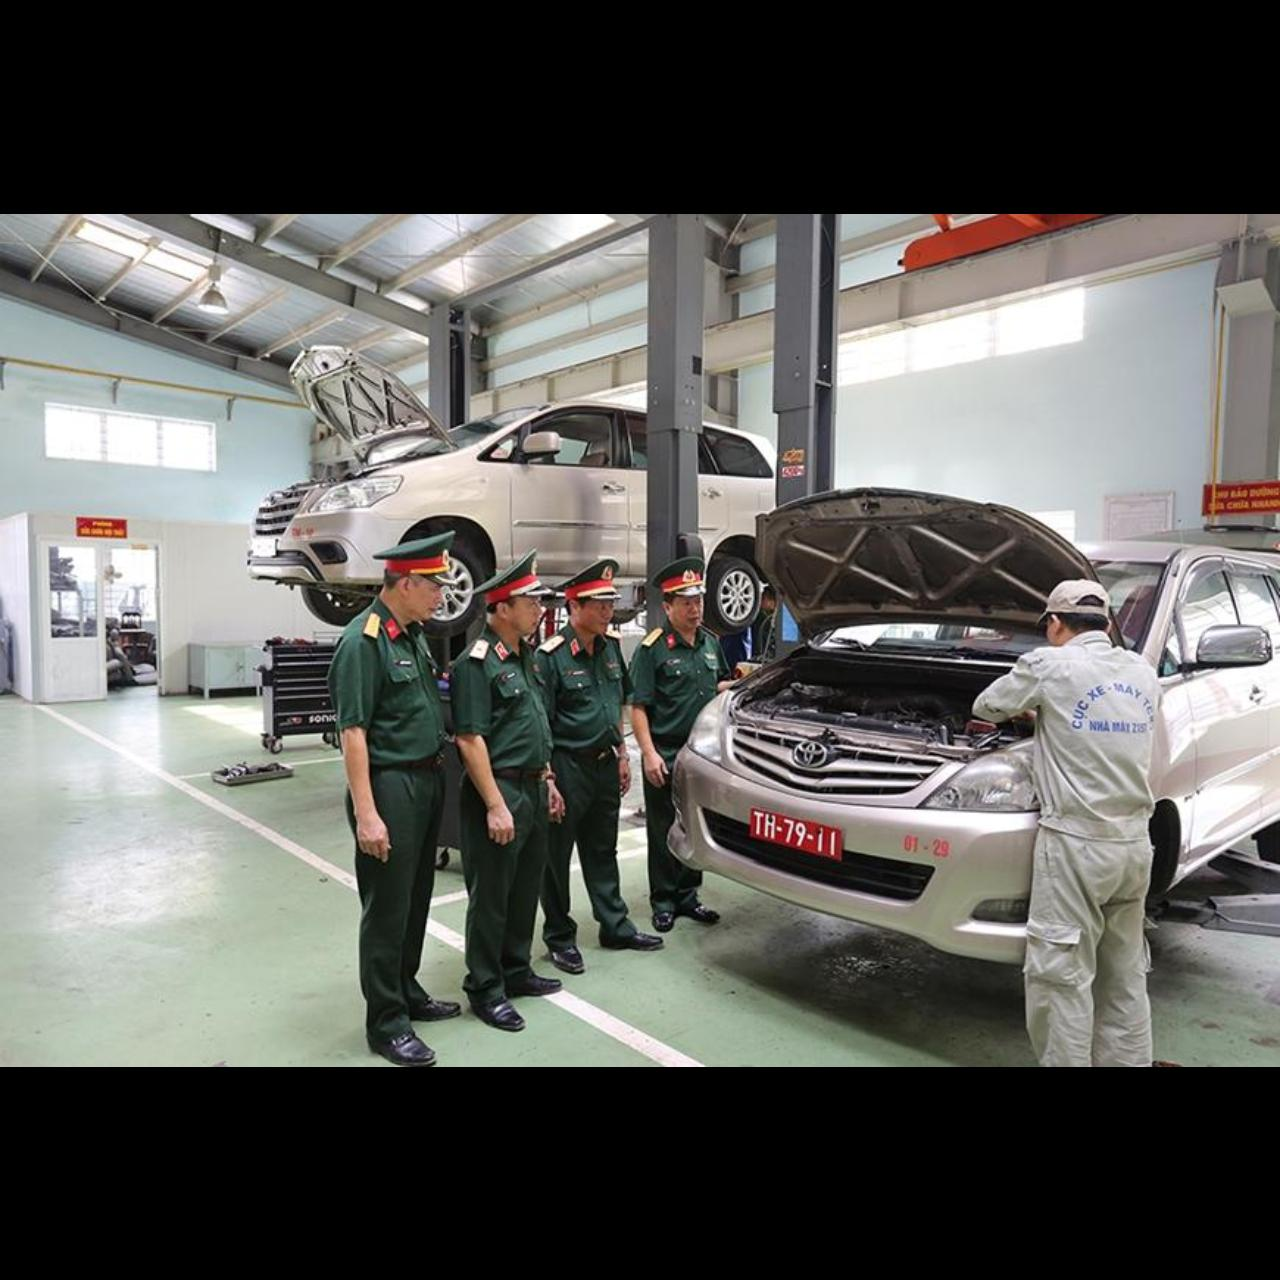bienso: (748, 804, 844, 864)
